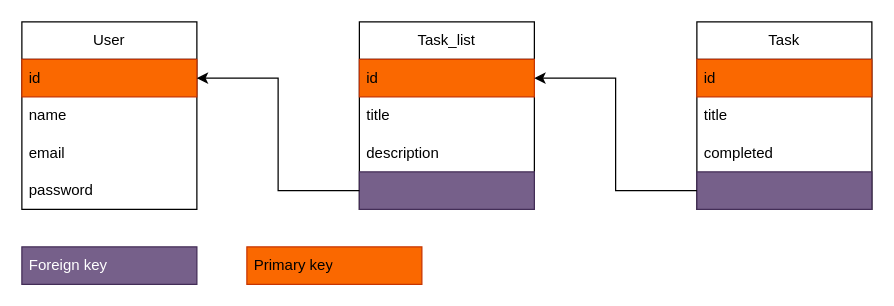
Image size: 894x306. Some labels were removed from this diagram. The centre of each missing label's shape, as x and y in pixels:
"list_id" belongs at (784,190).
"user_id" belongs at (446,190).
